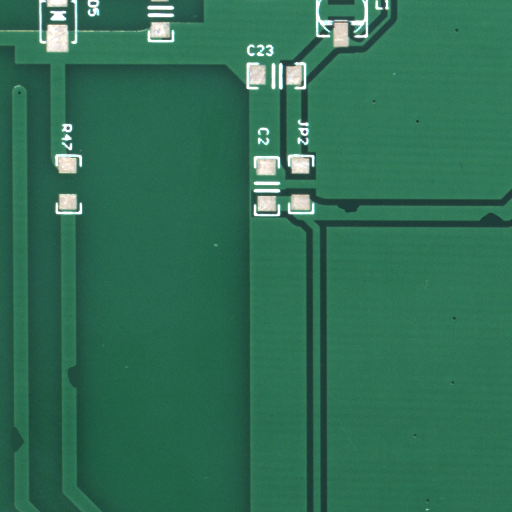Mouse_bite: (17, 437, 40, 483), (349, 206, 381, 226), (72, 376, 89, 408), (492, 218, 512, 237)
